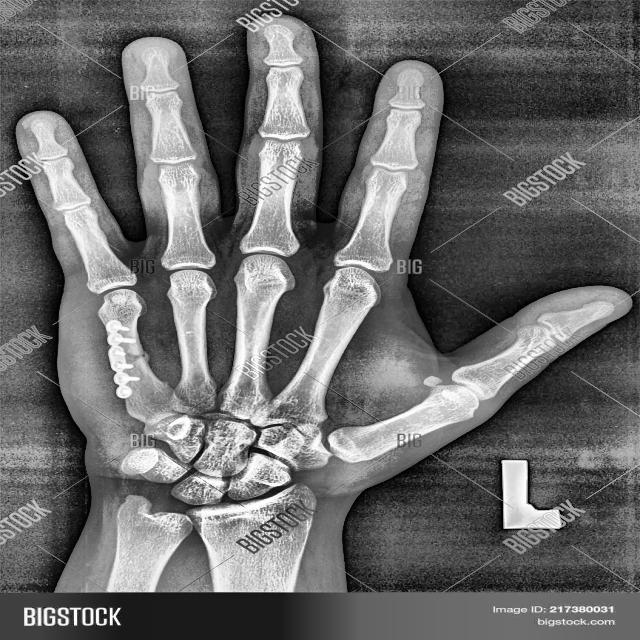fracture: (102, 316, 144, 403)
